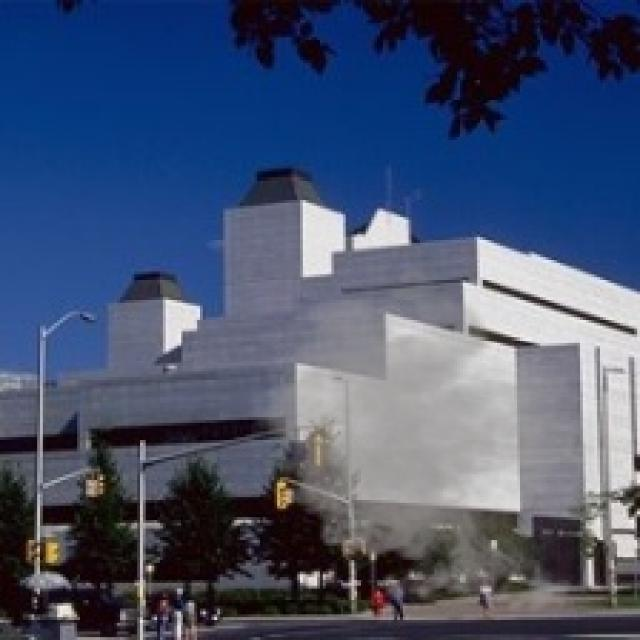smoke: (237, 263, 637, 623)
